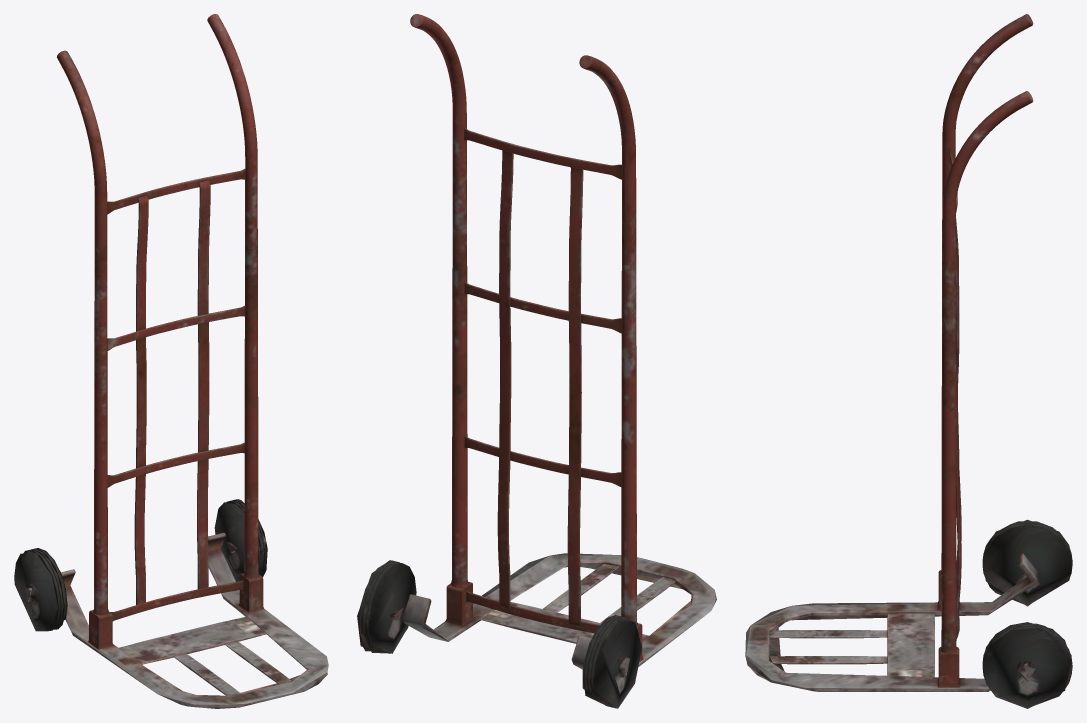
The model's file is hand_truck.glb.
The picture shows the model from 3 angles, left to right: view 1: azimuth 30°, elevation 25°; view 2: azimuth 150°, elevation 25°; view 3: azimuth 270°, elevation 25°; orthographic projection. The views are drawn at different scales.
Parts seen in each view (by area): view 1: hand_truck; view 2: hand_truck; view 3: hand_truck.
Part boxes in pixels (x1,y1,x2,y2): hand_truck: (14,14,328,708); hand_truck: (357,14,716,708); hand_truck: (745,14,1072,708).
Bounding box in the file's own units: 0.5789 × 1.4 × 0.6922.
Materials: 1 (1 with a texture image).
